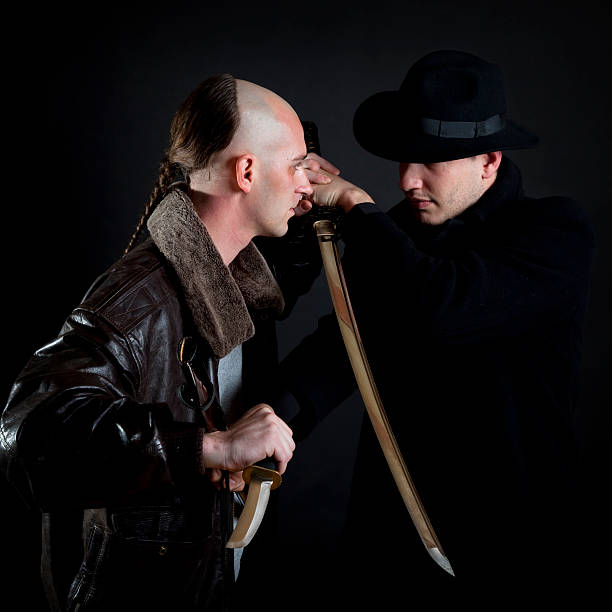knife: (309, 205, 458, 578), (221, 455, 280, 550)
